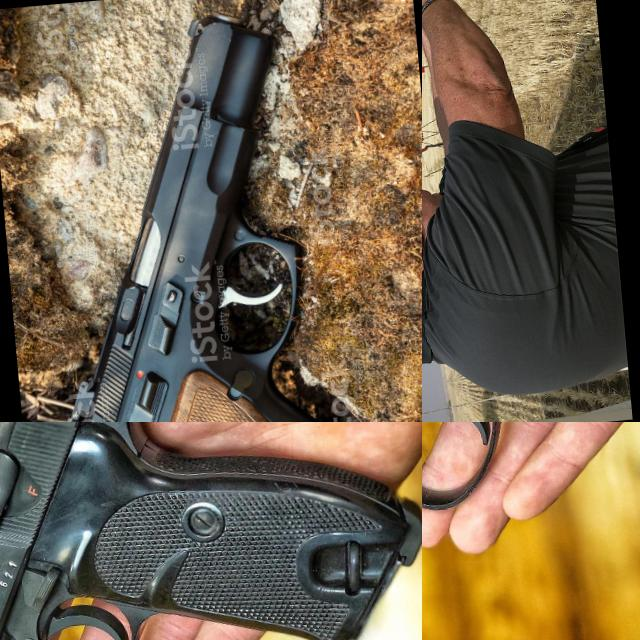handgun: (34, 0, 417, 422), (0, 422, 422, 640), (422, 422, 640, 640), (422, 0, 448, 35)
